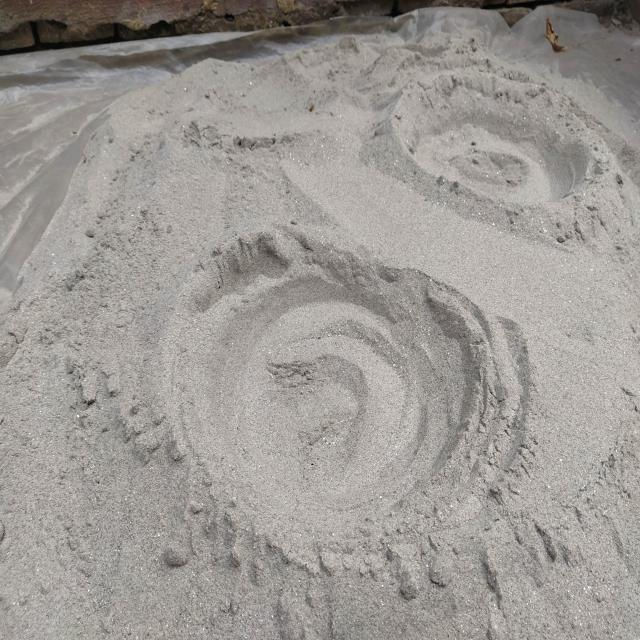C20: (168, 232, 495, 533), (391, 78, 589, 206)
